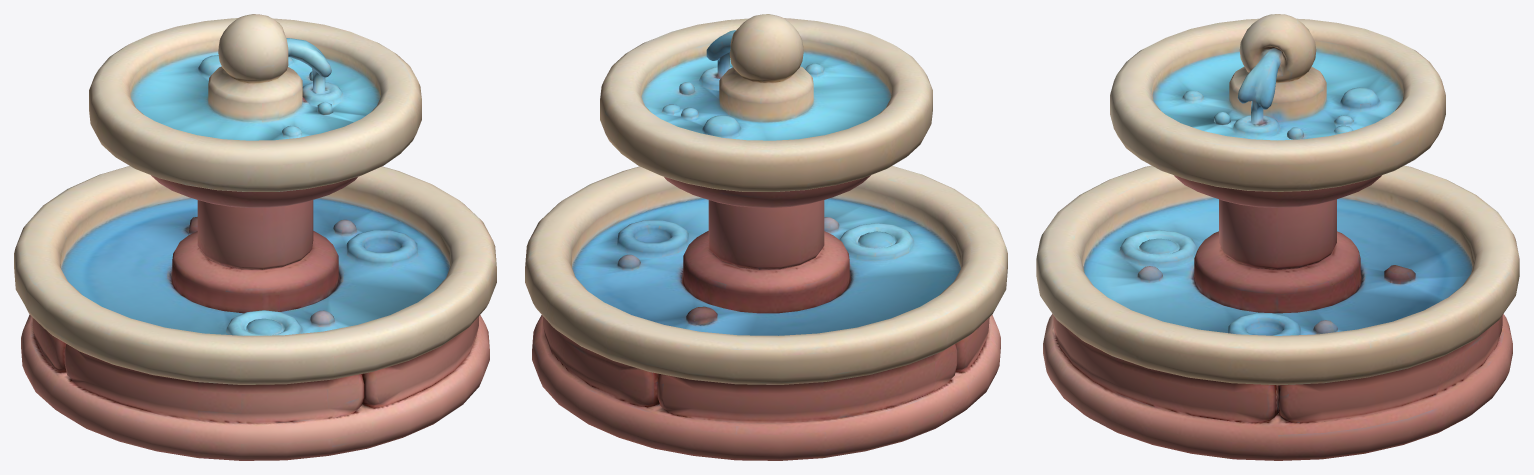
The model's file is fountain.glb.
3 views of the same model, side by side, from view 1: azimuth 30°, elevation 25°; view 2: azimuth 150°, elevation 25°; view 3: azimuth 270°, elevation 25° (orthographic).
Visible parts, largest first — view 1: tripo_node_adb74cf9-5105-4cbb-9a3e-38eecd0d19ab; view 2: tripo_node_adb74cf9-5105-4cbb-9a3e-38eecd0d19ab; view 3: tripo_node_adb74cf9-5105-4cbb-9a3e-38eecd0d19ab.
Boxes of the visible parts, <box> form: tripo_node_adb74cf9-5105-4cbb-9a3e-38eecd0d19ab: <box>14,14,496,460</box>; tripo_node_adb74cf9-5105-4cbb-9a3e-38eecd0d19ab: <box>525,14,1007,460</box>; tripo_node_adb74cf9-5105-4cbb-9a3e-38eecd0d19ab: <box>1036,14,1519,460</box>.
Bounding box in the file's own units: 0.9984 × 0.7952 × 0.9984.
Materials: 1 (1 with a texture image).
